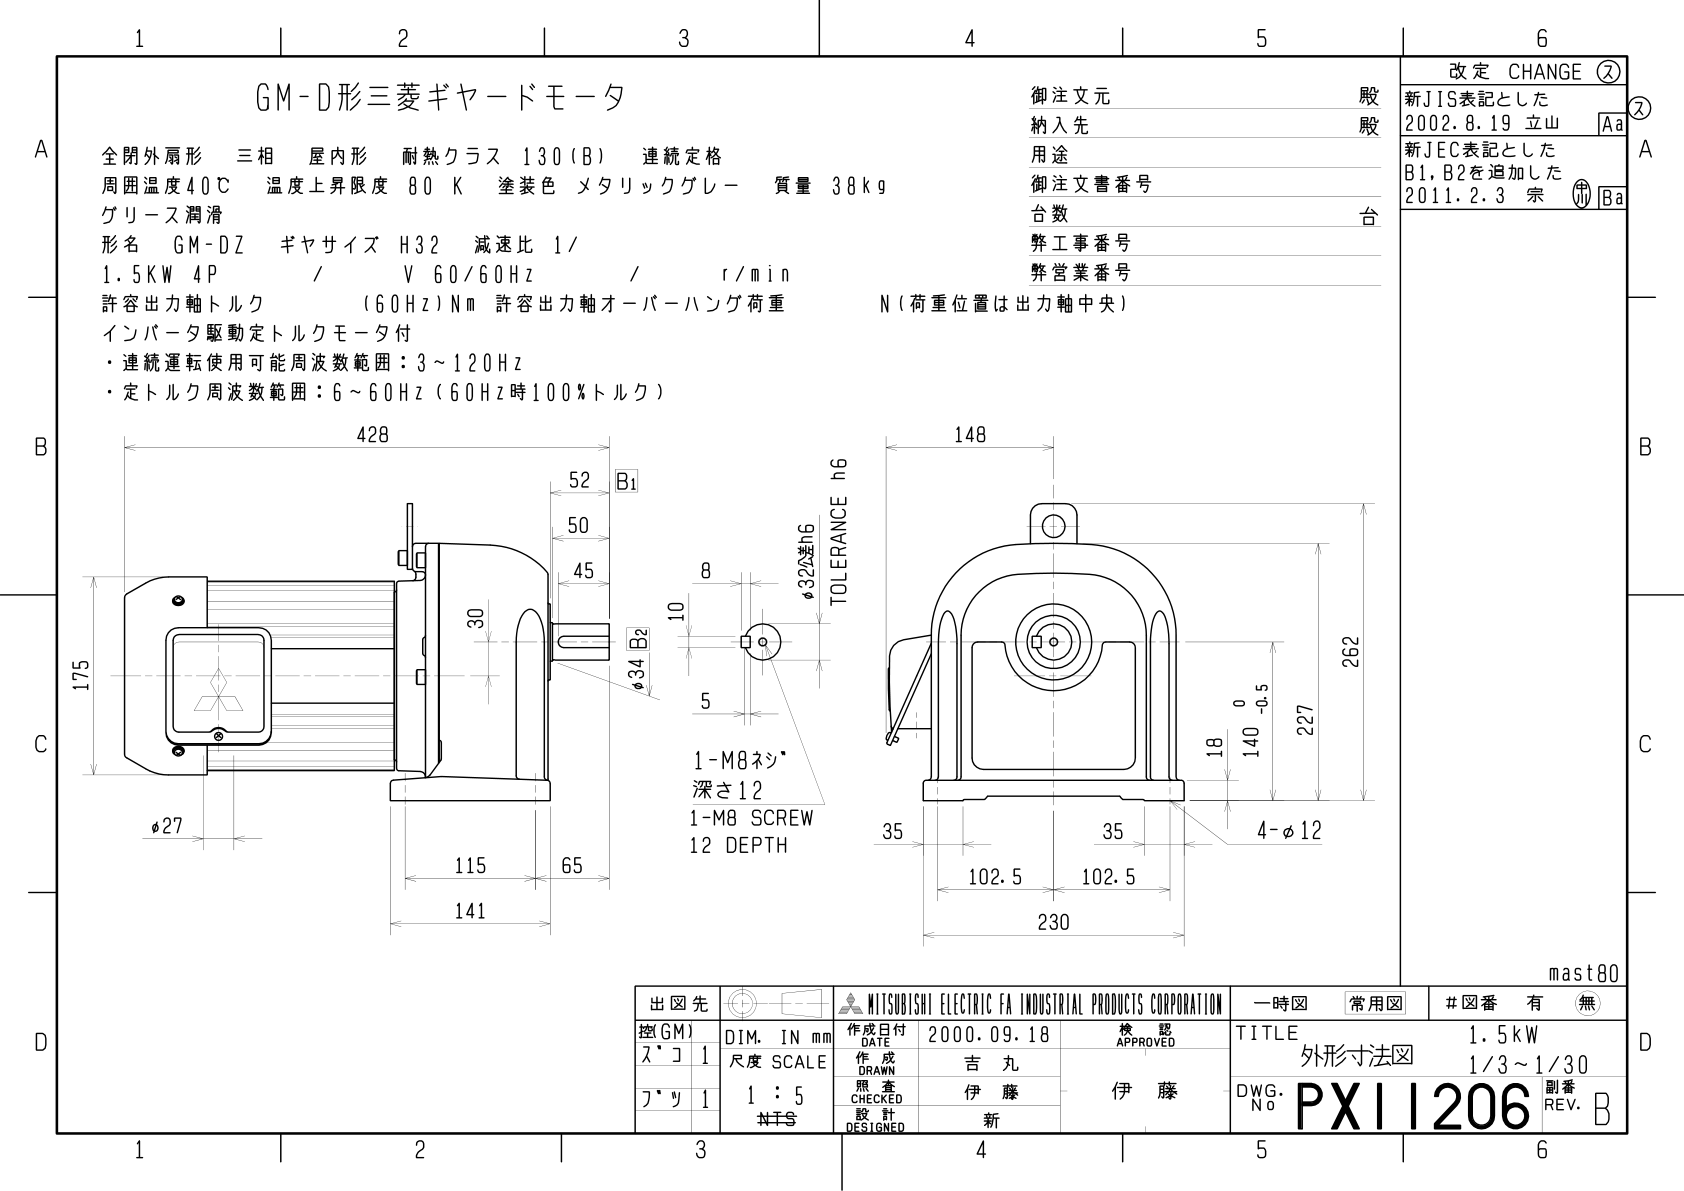GM_D_インバータ屋内_三相_脚: (64, 414, 1381, 963)
